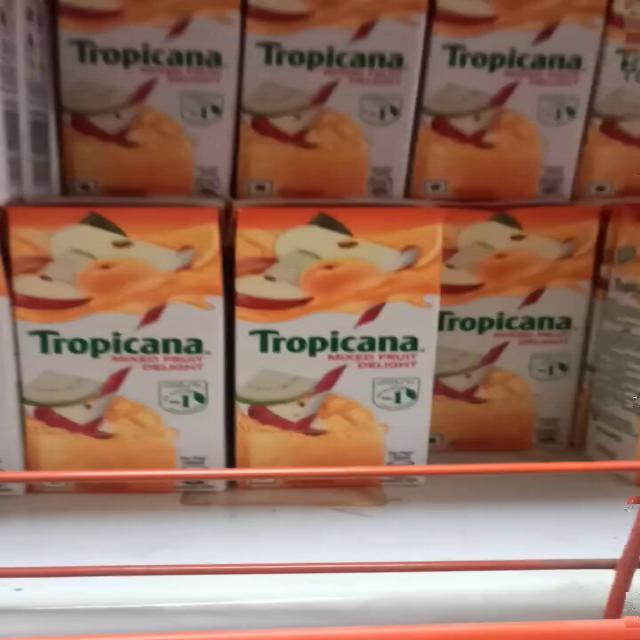Tropicana: (10, 209, 225, 505), (235, 209, 440, 484), (235, 0, 428, 207), (422, 0, 608, 202), (52, 0, 235, 204)
